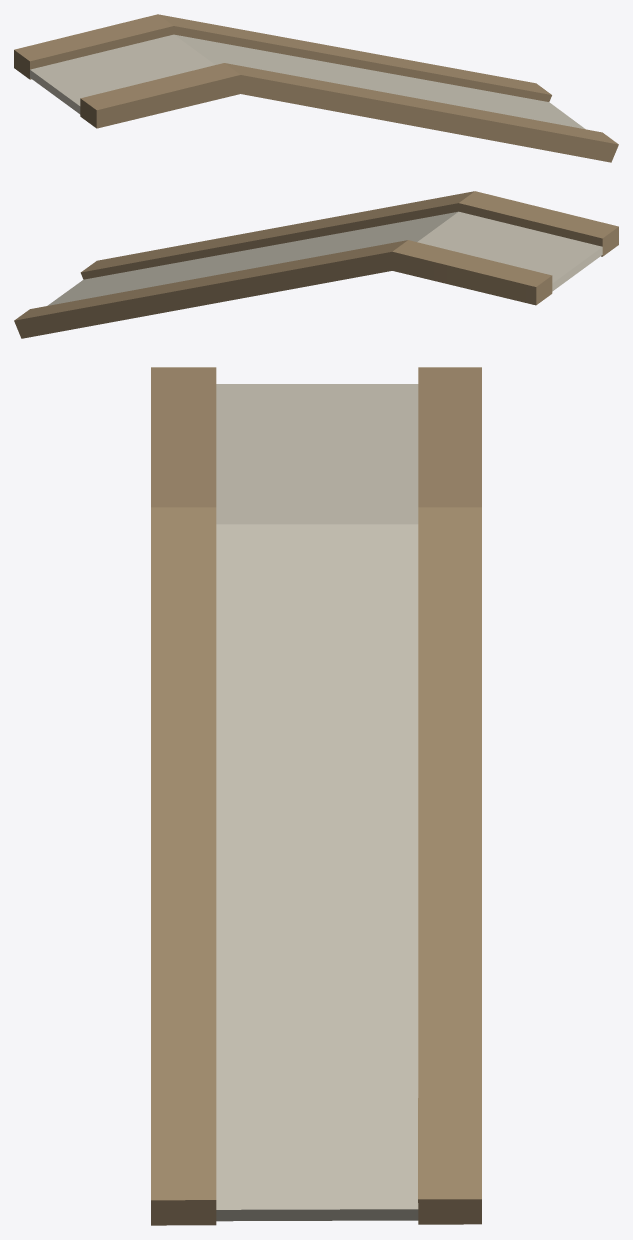
The model's file is LightGreyMetalMechSmallRamp1.fbx.
3 views of the same model, one above another, from view 1: azimuth 30°, elevation 25°; view 2: azimuth 150°, elevation 25°; view 3: azimuth 270°, elevation 25° (orthographic). The views are drawn at different scales.
Visible parts, largest first — view 1: LightGreyMetalMechSmallRamp1; view 2: LightGreyMetalMechSmallRamp1; view 3: LightGreyMetalMechSmallRamp1.
Part boxes in pixels (box(x1,y1,x2,y2)): LightGreyMetalMechSmallRamp1: box(14, 14, 618, 162); LightGreyMetalMechSmallRamp1: box(14, 191, 618, 338); LightGreyMetalMechSmallRamp1: box(151, 367, 481, 1225).
Bounding box in the file's own units: 1195 × 390 × 328.
